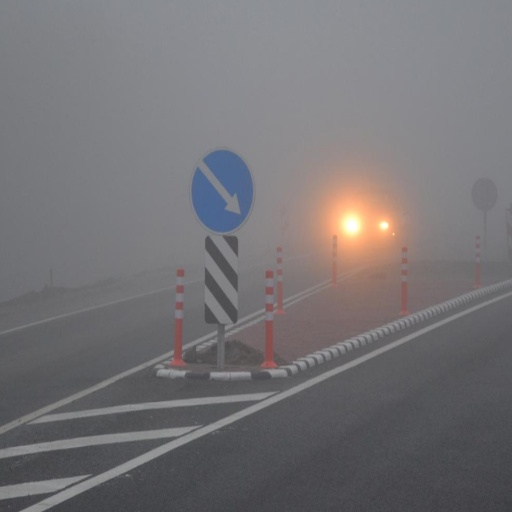Keep right: (182, 141, 263, 238)
